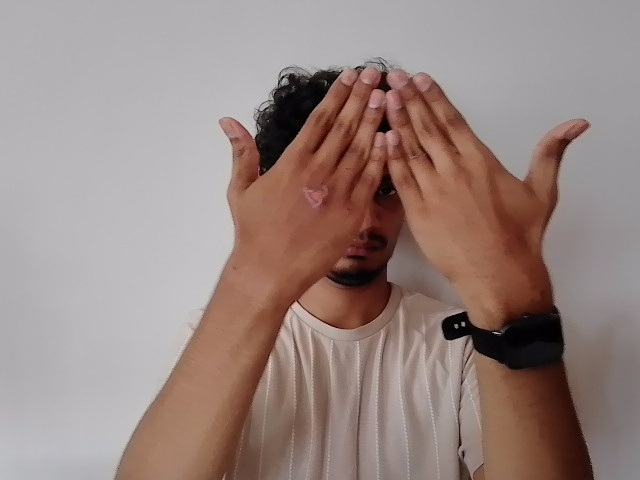thankyou: (207, 57, 593, 284)
